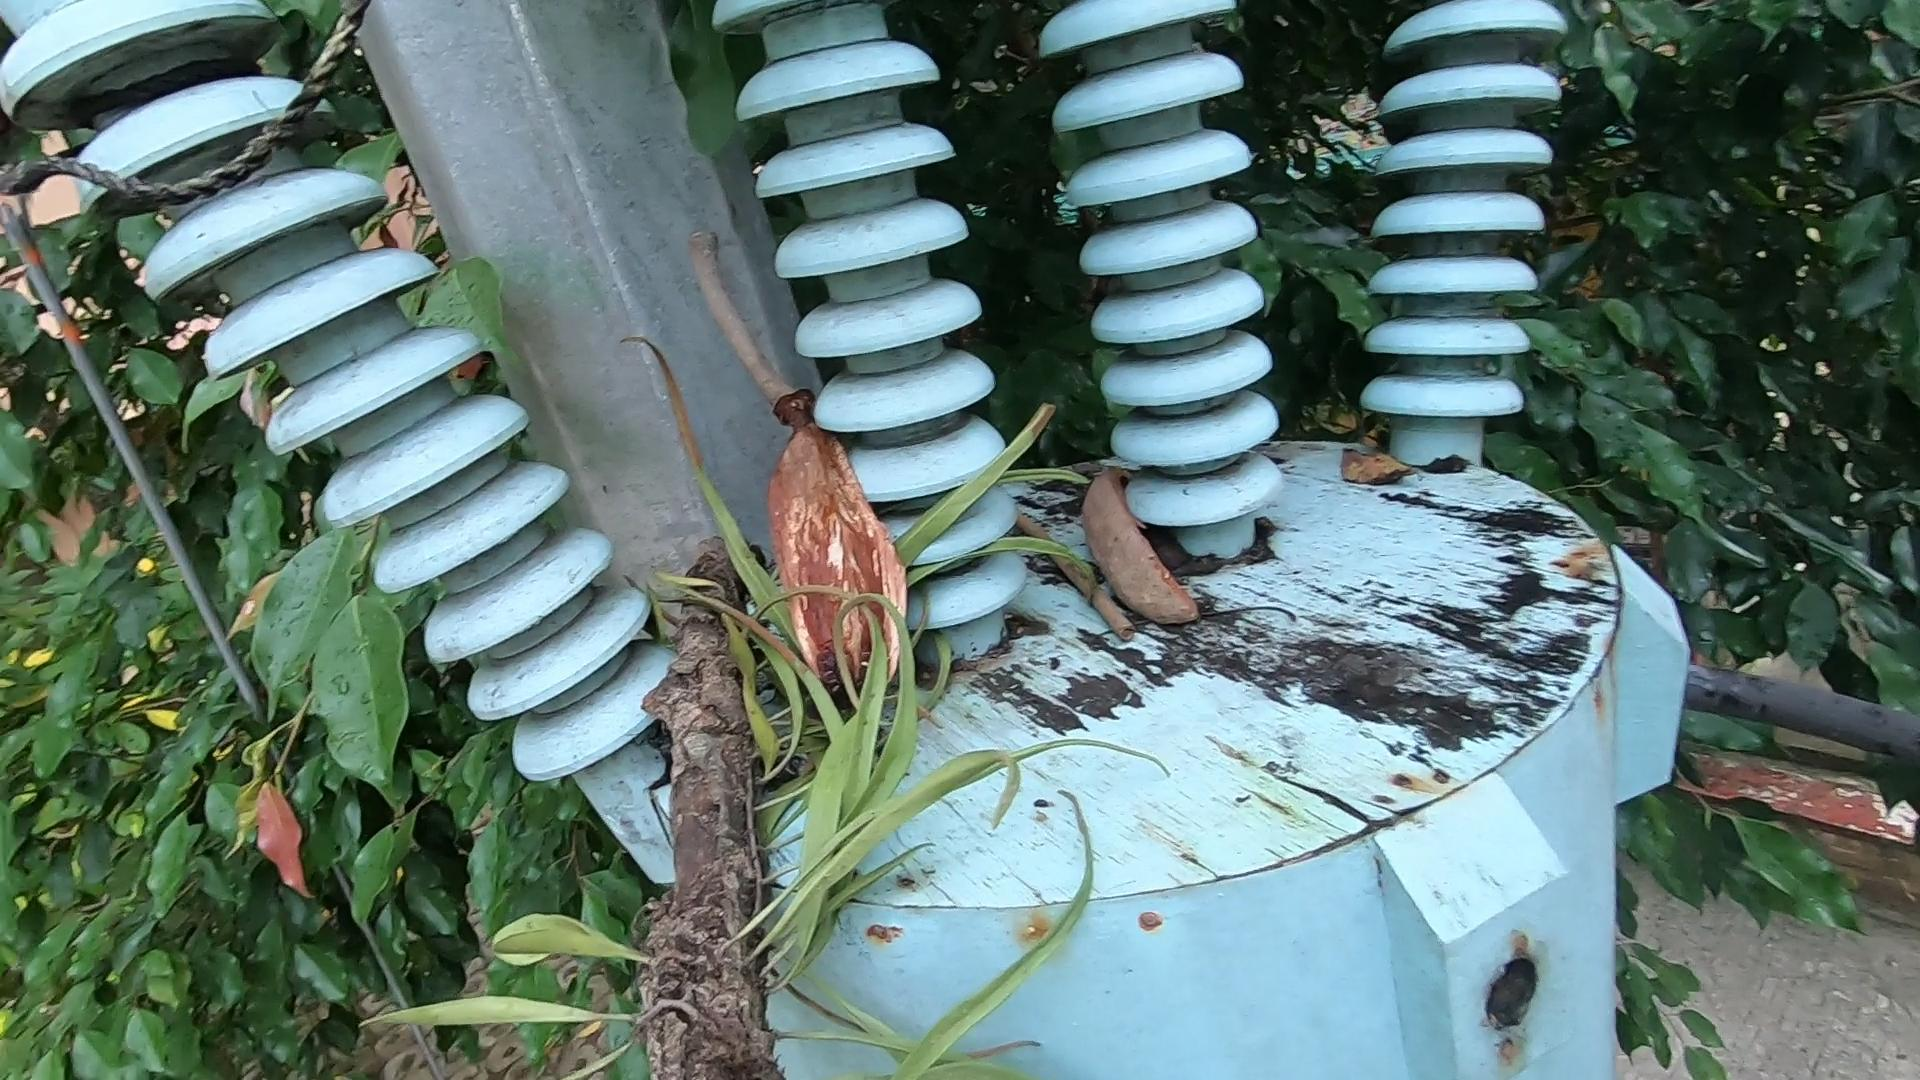branch with leaves: (603, 488, 1109, 1080)
leaf: (1317, 436, 1453, 512)
mahogany fruit: (746, 429, 957, 696), (1069, 429, 1193, 611)
tree branch: (654, 215, 814, 425), (1007, 487, 1156, 663)
